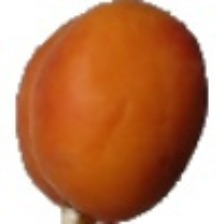apricot: (6, 6, 187, 205)
